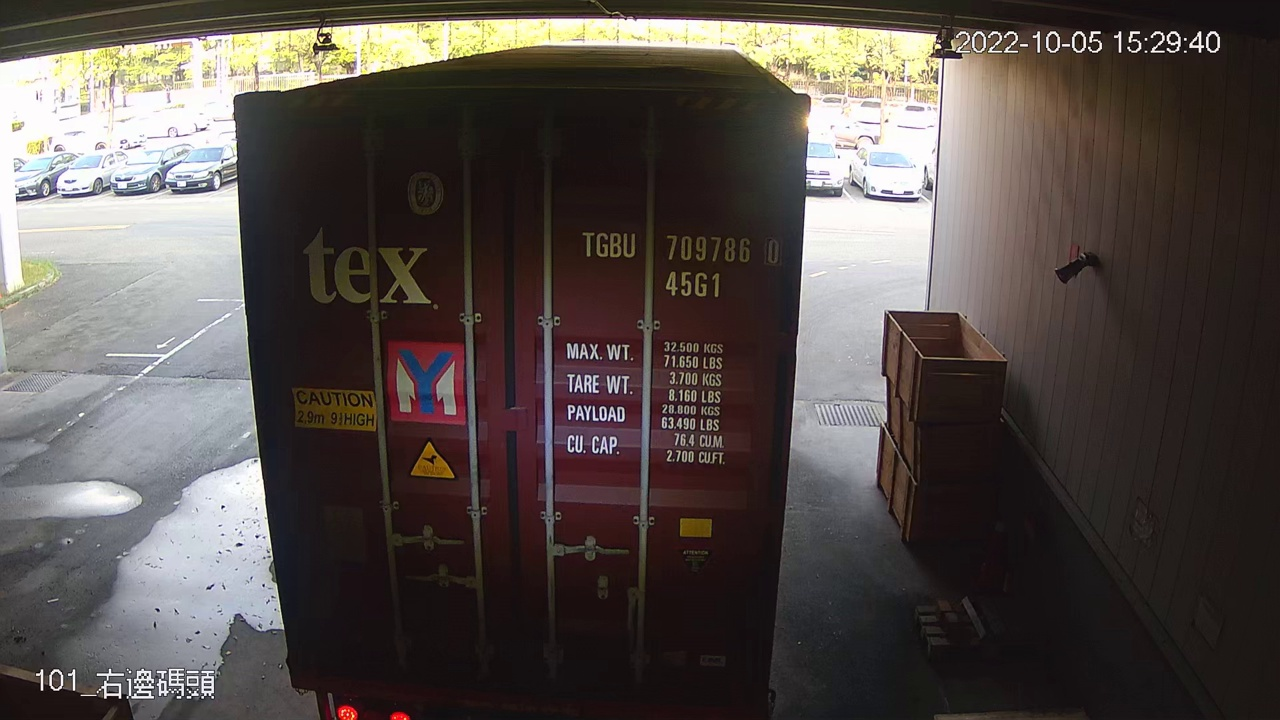container: (575, 221, 788, 301)
